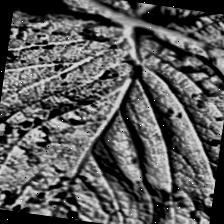Angular Leafspot: (0, 7, 224, 224), (44, 0, 224, 38)
